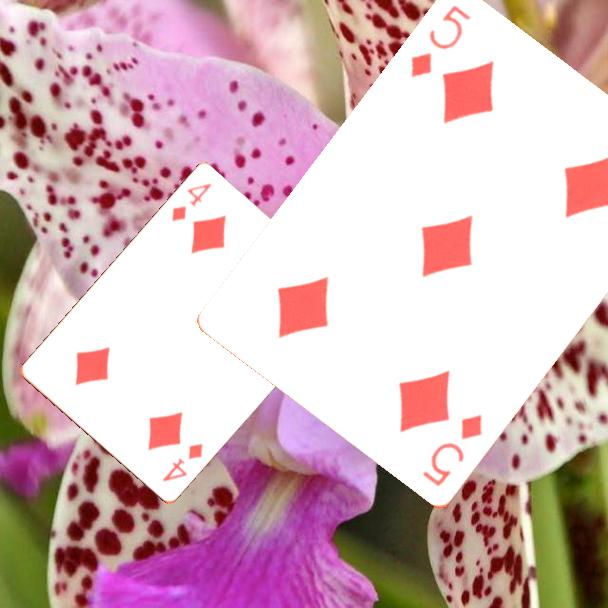d04: (159, 440, 206, 485), (168, 180, 215, 225)
d05: (419, 410, 486, 491), (407, 2, 474, 81)
